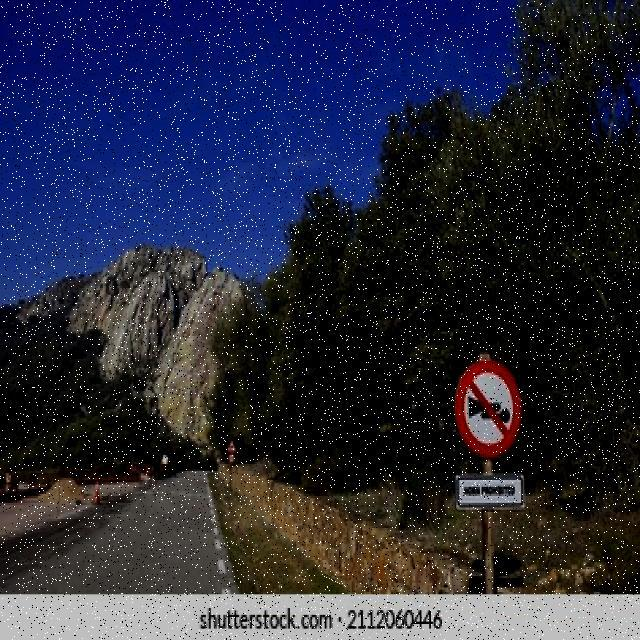Traffic sign: (444, 346, 534, 514)
